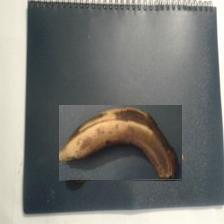Banana Rotten: (59, 106, 182, 182)
